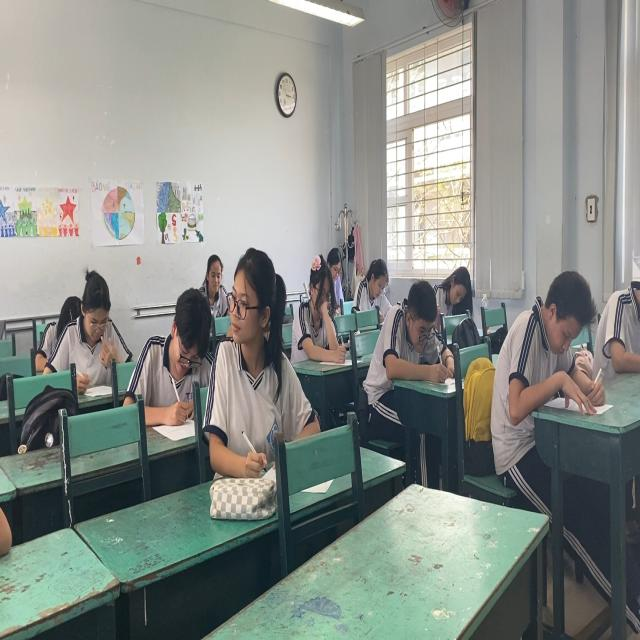cheating: (212, 240, 287, 440)
not_cheating: (509, 268, 599, 412), (142, 291, 216, 431), (42, 265, 132, 378), (381, 278, 446, 374), (292, 254, 346, 360), (352, 250, 398, 320), (439, 265, 476, 323), (196, 247, 227, 312)
